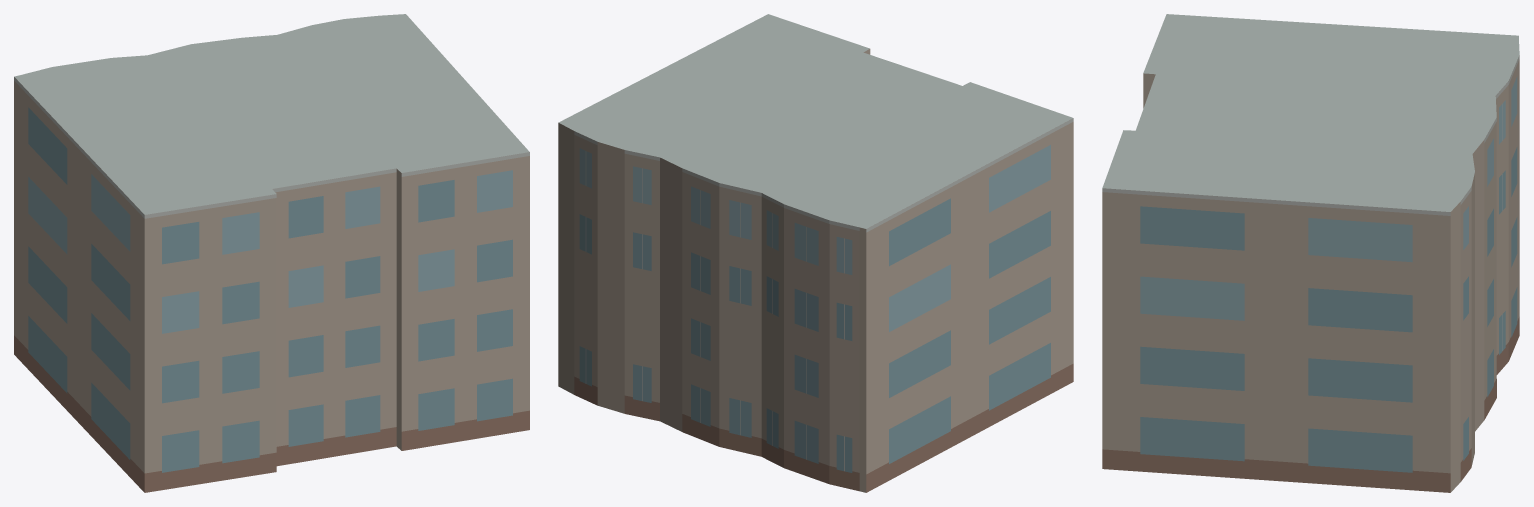
File: survey-upis-32500584.glb
The picture shows the model from 3 angles, left to right: view 1: azimuth 30°, elevation 25°; view 2: azimuth 150°, elevation 25°; view 3: azimuth 270°, elevation 25°; orthographic projection. The views are drawn at different scales.
Parts seen in each view (by area): view 1: survey-upis-32500584.tmp; view 2: survey-upis-32500584.tmp; view 3: survey-upis-32500584.tmp.
Boxes of the visible parts, <box> form: survey-upis-32500584.tmp: <box>14,14,529,492</box>; survey-upis-32500584.tmp: <box>558,14,1073,492</box>; survey-upis-32500584.tmp: <box>1102,14,1519,492</box>.
Bounding box in the file's own units: 26.64 × 17.6 × 23.72.
